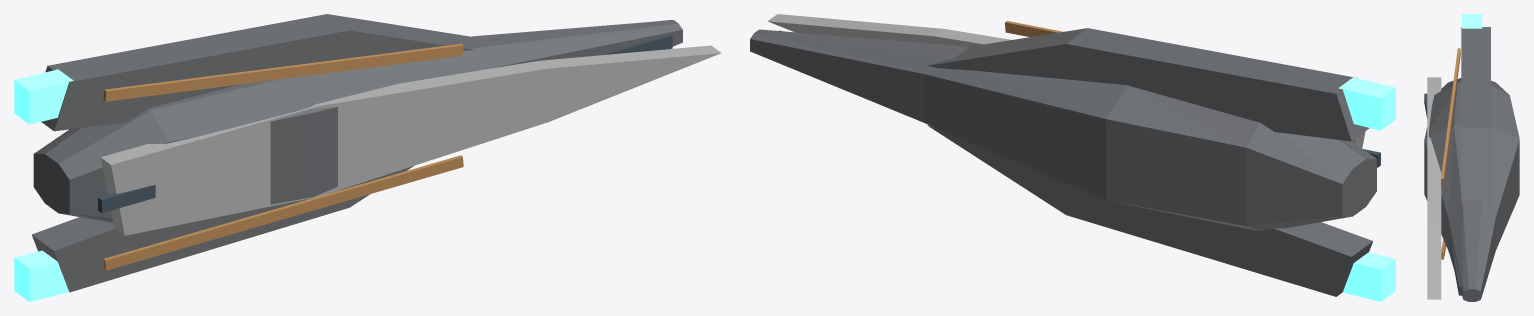
File: cerberus-frigate.glb
3 renders of one model, left to right at view 1: azimuth 30°, elevation 25°; view 2: azimuth 150°, elevation 25°; view 3: azimuth 270°, elevation 25°, orthographic. The views are drawn at different scales.
Visible parts, largest first — view 1: Hull and platework, Engines and emitters; view 2: Hull and platework, Engines and emitters; view 3: Hull and platework, Engines and emitters.
Part boxes in pixels (<box>): Hull and platework: <box>31,14,721,292</box>; Engines and emitters: <box>14,69,73,301</box>; Hull and platework: <box>750,14,1380,296</box>; Engines and emitters: <box>1338,77,1395,301</box>; Hull and platework: <box>1424,27,1519,301</box>; Engines and emitters: <box>1462,14,1482,28</box>.
Size of the model in its own units: 2.57 by 0.7767 by 0.4815.
